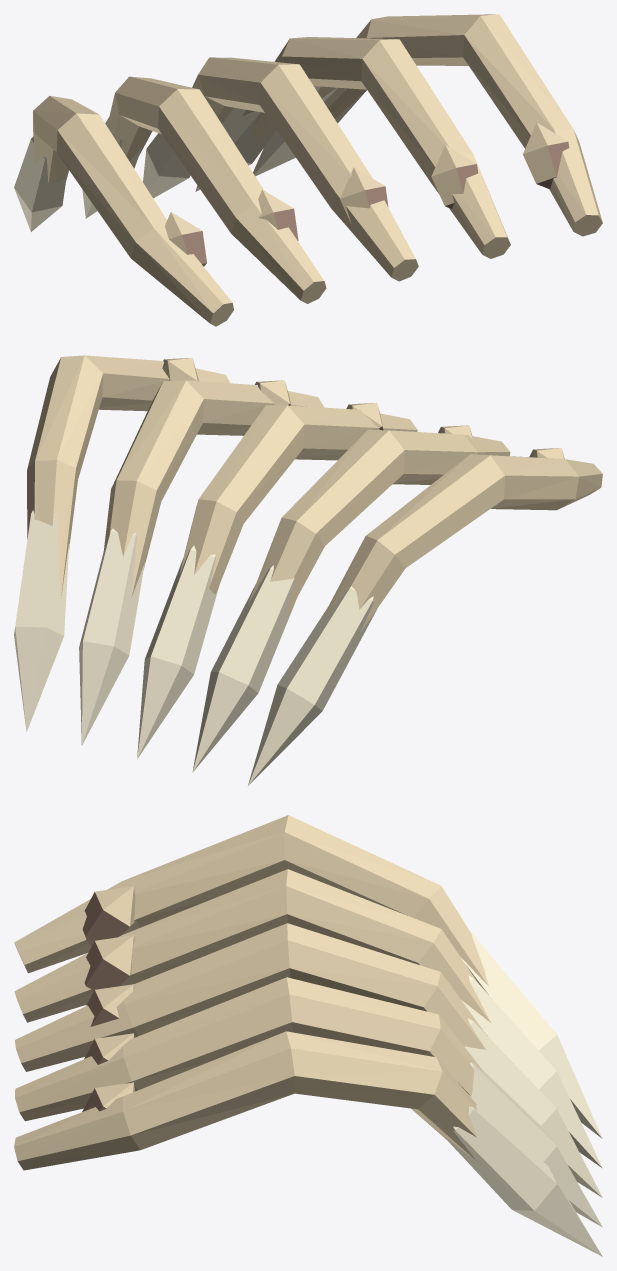
Rendered from VFX_62_OssaArtiglioScheletrico.fbx.
3 renders of one model, top to bottom at view 1: azimuth 30°, elevation 25°; view 2: azimuth 150°, elevation 25°; view 3: azimuth 270°, elevation 25°, orthographic. The views are drawn at different scales.
Parts seen in each view (by area): view 1: VFX_62_OssaArtiglioScheletrico; view 2: VFX_62_OssaArtiglioScheletrico; view 3: VFX_62_OssaArtiglioScheletrico.
Boxes of the visible parts, x1,y1,x2,y2 form: VFX_62_OssaArtiglioScheletrico: (14, 14, 602, 326); VFX_62_OssaArtiglioScheletrico: (14, 355, 602, 785); VFX_62_OssaArtiglioScheletrico: (14, 815, 602, 1256).
Bounding box in the file's own units: 256 × 134 × 264.
1 material, 1 textured.
